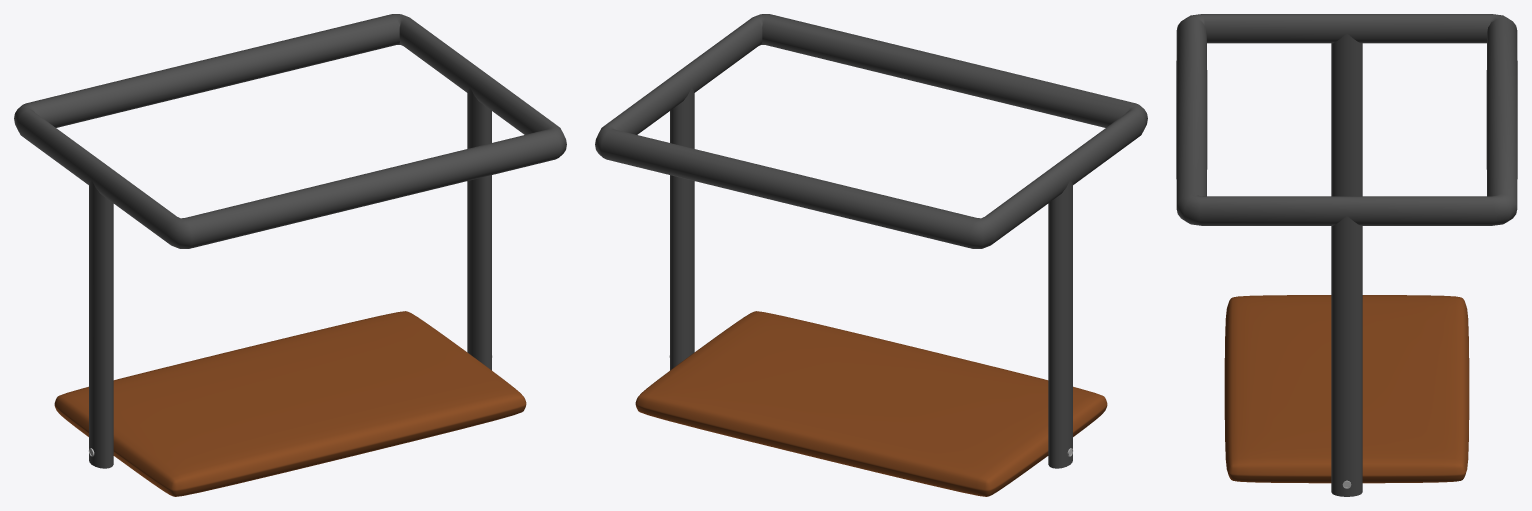
The model's file is Seat.fbx.
3 views of the same model, side by side, from view 1: azimuth 30°, elevation 25°; view 2: azimuth 150°, elevation 25°; view 3: azimuth 270°, elevation 25° (orthographic).
Visible parts, largest first — view 1: Seat; view 2: Seat; view 3: Seat.
Part boxes in pixels (bbox=[...]): Seat: bbox=[14, 14, 566, 496]; Seat: bbox=[595, 14, 1147, 496]; Seat: bbox=[1176, 14, 1517, 496].
Size of the model in its own units: 293 by 211 by 220.
